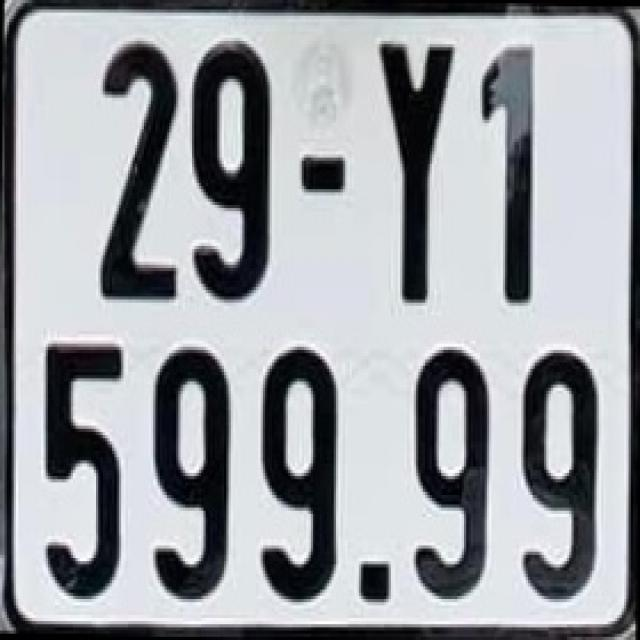1: (473, 38, 546, 309)
2: (92, 31, 185, 306)
5: (37, 331, 128, 602)
9: (185, 31, 279, 306), (254, 338, 345, 608), (514, 340, 604, 606), (407, 338, 494, 606), (146, 338, 233, 602)
Y: (375, 31, 459, 306)
